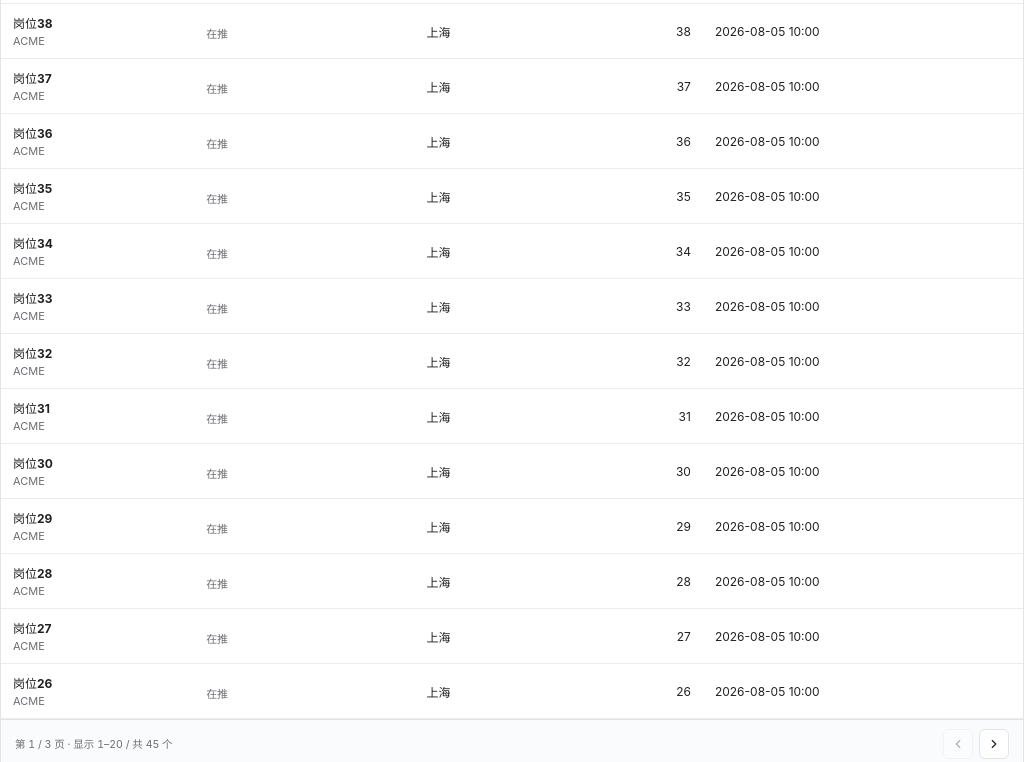
Test case: 岗位列表 Jobs › 超过一页时分批展示，翻页与搜索后页码重置
This screenshot has width=1024, height=762.
(page scrolled)
Expected: the row "岗位21" is not shown
Expected: the text "第 1 / 3 页 · 显示 1–20 / 共 45 个" is shown, [15, 736, 173, 751]
Click the button named "下一页". click: (994,744)
box: [979, 728, 1009, 758]
(page scrolled)
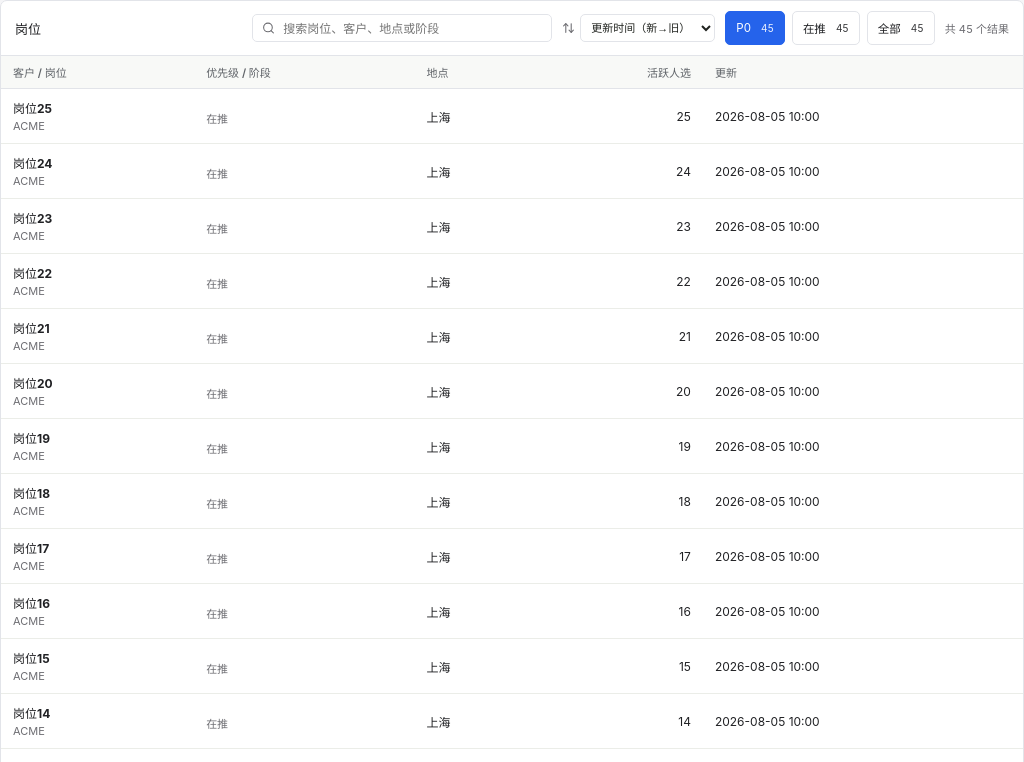
Expected: the row "岗位21 ACME 在推 上海 21 2026-08-05 10:00" is shown, [1, 308, 1023, 364]
Type "岗位44" into the search field labelled "搜索岗位". click: (412,28)
box: [281, 20, 542, 36]
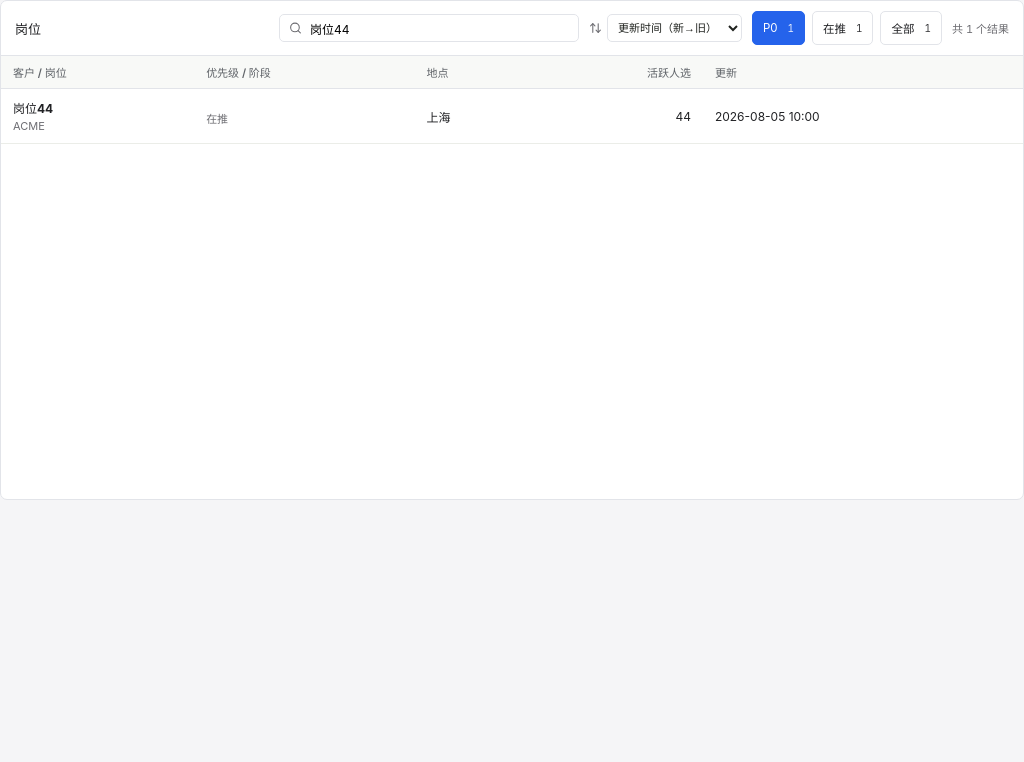
Expected: the text "第 1 / 3 页 · 显示 1–20 / 共 45 个" is not shown
Expected: the message reads "共 1 个结果", [952, 22, 1009, 36]
Expected: the row "岗位44 ACME 在推 上海 44 2026-08-05 10:00" is shown, [1, 89, 1023, 144]
